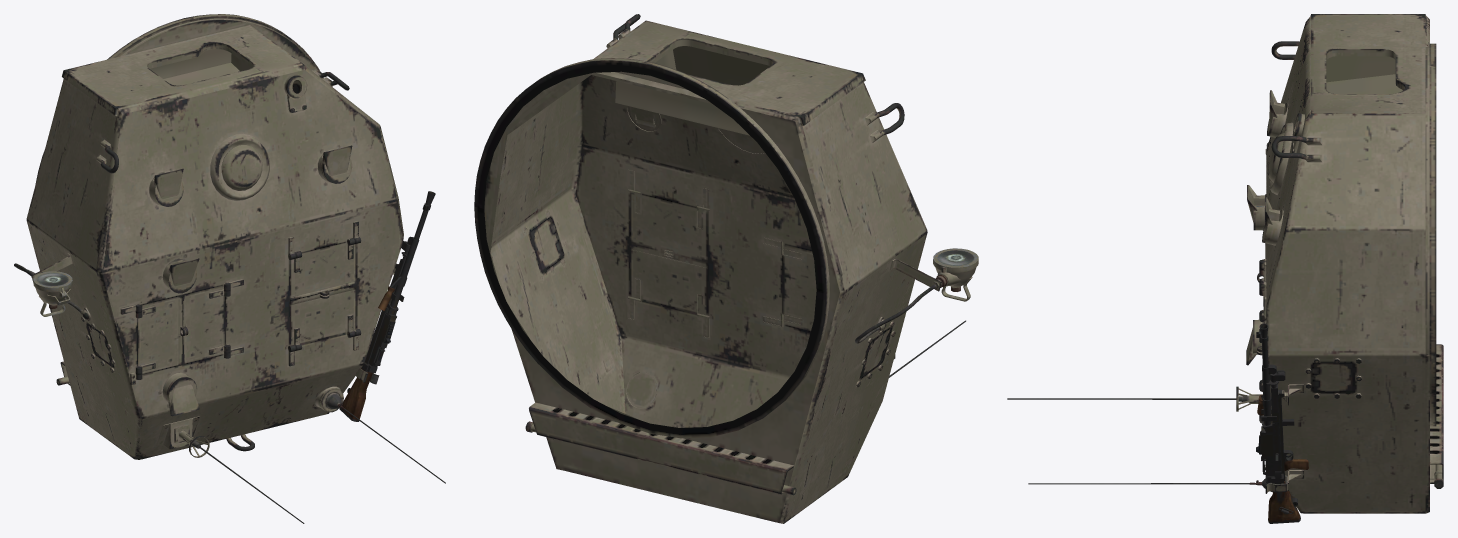
File: Turret_02.glb
3 views of the same model, side by side, from view 1: azimuth 30°, elevation 25°; view 2: azimuth 150°, elevation 25°; view 3: azimuth 270°, elevation 25° (orthographic). The views are drawn at different scales.
Visible parts, largest first — view 1: set_0_group_0; view 2: set_0_group_0; view 3: set_0_group_0.
Part boxes in pixels (box(x1,y1,x2,y2)): set_0_group_0: box(14, 14, 445, 523); set_0_group_0: box(474, 14, 978, 523); set_0_group_0: box(1007, 14, 1443, 523).
Bounding box in the file's own units: 2.12 × 1.99 × 1.89.
Materials: 1 (1 with a texture image).
